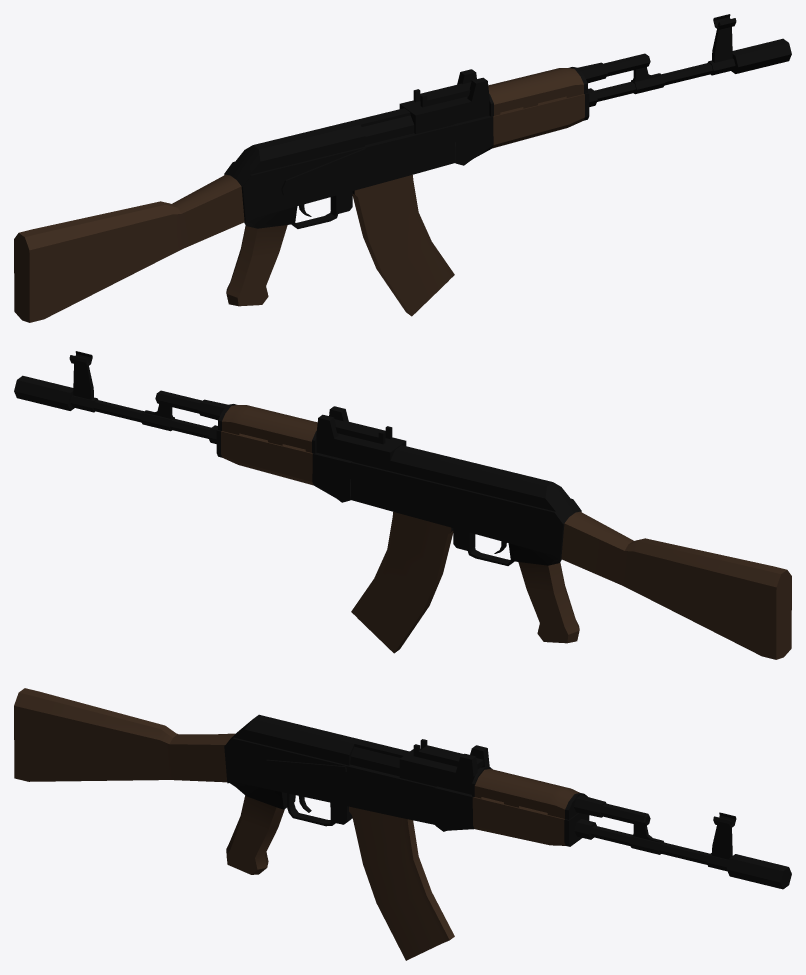
The picture shows the model from 3 angles, top to bottom: view 1: azimuth 30°, elevation 25°; view 2: azimuth 150°, elevation 25°; view 3: azimuth 330°, elevation 25°; orthographic projection.
Parts seen in each view (by area): view 1: AK-47_01; view 2: AK-47_01; view 3: AK-47_01.
Boxes of the visible parts, x1,y1,x2,y2 form: AK-47_01: (14, 14, 791, 322); AK-47_01: (14, 351, 791, 659); AK-47_01: (14, 688, 791, 960).
Bounding box in the file's own units: 98.24 × 4.59 × 27.29.
